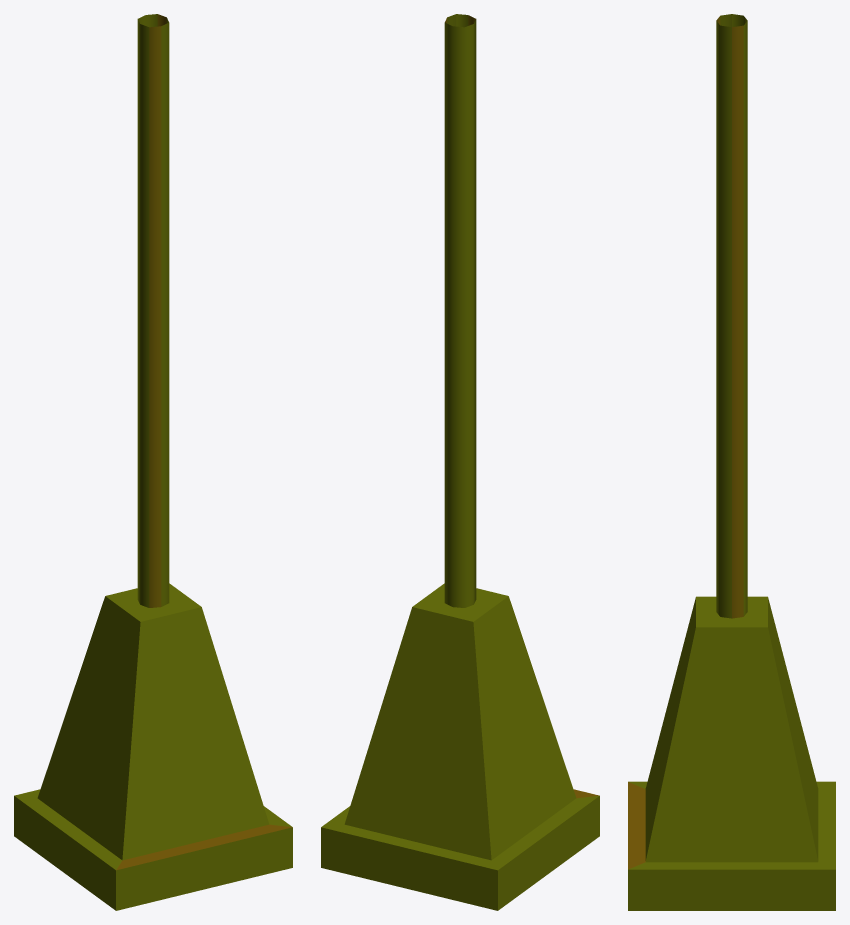
Rendered from 3pod.fbx.
3 views of the same model, side by side, from view 1: azimuth 30°, elevation 25°; view 2: azimuth 150°, elevation 25°; view 3: azimuth 270°, elevation 25° (orthographic).
Parts seen in each view (by area): view 1: Mesh; view 2: Mesh; view 3: Mesh.
Boxes of the visible parts, box(x1,y1,x2,y2) form: Mesh: box(14, 14, 292, 910); Mesh: box(321, 14, 599, 910); Mesh: box(628, 14, 835, 910).
Bounding box in the file's own units: 63.81 × 287 × 63.81.
